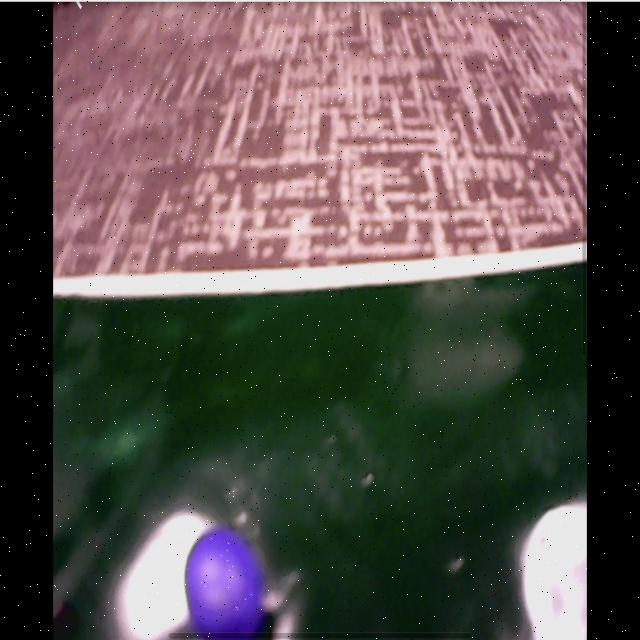ball: (184, 531, 262, 638)
